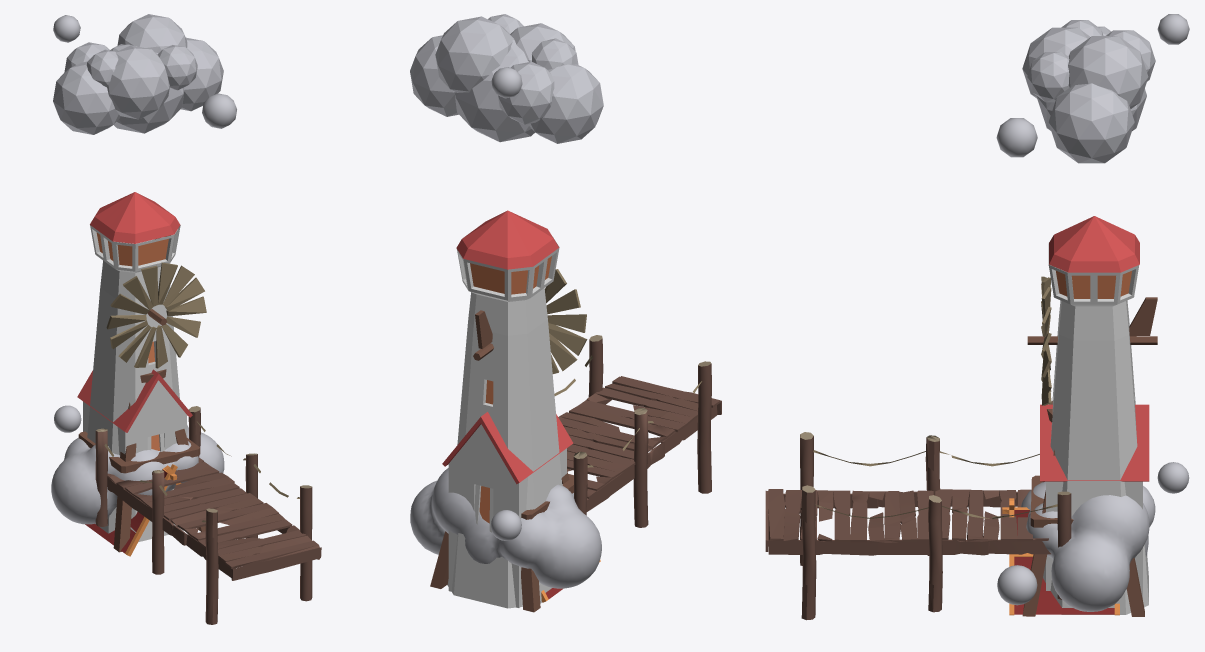
The model's file is island-decor.glb.
3 renders of one model, left to right at view 1: azimuth 30°, elevation 25°; view 2: azimuth 150°, elevation 25°; view 3: azimuth 270°, elevation 25°, orthographic. The views are drawn at different scales.
Parts seen in each view (by area): view 1: dockBody, cloudOld, lighthouseWall, windTurbineBlades, cloudBody, lighthouseRoof, houseBody, windTurbineBody, cloudOldLoose, houseRoof, lighthouseWindows, tentBody (+1 smaller); view 2: lighthouseWall, cloudOld, dockBody, cloudBody, houseBody, lighthouseRoof, windTurbineBlades, windTurbineBody, lighthouseWindows, houseRoof, cloudLoose, cloudOldLoose; view 3: dockBody, lighthouseWall, cloudOld, cloudBody, lighthouseRoof, windTurbineBody, houseRoof, cloudOldLoose, cloudLoose, tentBody, lighthouseWindows, houseBody (+1 smaller).
Part boxes in pixels (x1,y1,x2,y2): dockBody: (95, 406, 321, 624); cloudOld: (53, 14, 223, 134); lighthouseWall: (87, 225, 183, 541); windTurbineBlades: (106, 262, 206, 368); cloudBody: (51, 425, 224, 524); lighthouseRoof: (90, 192, 180, 243); houseBody: (83, 380, 186, 455); windTurbineBody: (78, 309, 205, 552); cloudOldLoose: (53, 15, 236, 128); houseRoof: (77, 369, 192, 432); lighthouseWindows: (96, 232, 170, 450); tentBody: (85, 464, 181, 556); lighthouseWall: (447, 237, 562, 608); cloudOld: (410, 14, 603, 143); dockBody: (554, 335, 721, 527); cloudBody: (410, 468, 601, 588); houseBody: (448, 424, 566, 607); lighthouseRoof: (456, 210, 558, 269); windTurbineBlades: (544, 269, 587, 373); windTurbineBody: (430, 310, 573, 612); lighthouseWindows: (470, 256, 551, 523); houseRoof: (442, 412, 573, 484); cloudLoose: (491, 510, 521, 540); cloudOldLoose: (491, 67, 522, 98); dockBody: (765, 432, 1071, 620); lighthouseWall: (1043, 243, 1148, 614); cloudOld: (1022, 20, 1155, 163); cloudBody: (1021, 481, 1155, 611); lighthouseRoof: (1049, 216, 1139, 272); windTurbineBody: (1022, 297, 1157, 616); houseRoof: (1040, 404, 1149, 481); cloudOldLoose: (996, 14, 1189, 157); cloudLoose: (997, 462, 1189, 605); tentBody: (1002, 498, 1119, 615); lighthouseWindows: (1056, 271, 1131, 298); houseBody: (1046, 481, 1142, 599).
Bounding box in the file's own units: 0.0907 × 0.2629 × 0.1788.
